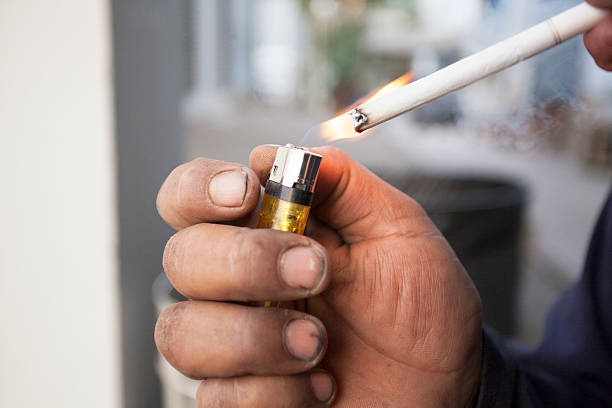cigarette: (349, 3, 607, 132)
